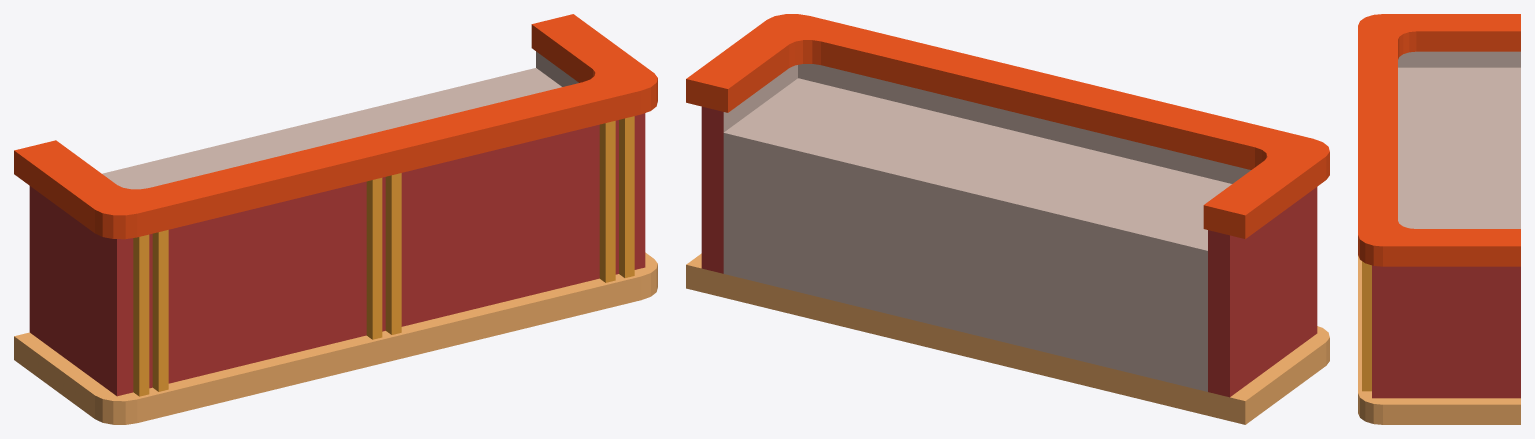
The model's file is TableStand_2lane_geo.fbx.
3 views of the same model, side by side, from view 1: azimuth 30°, elevation 25°; view 2: azimuth 150°, elevation 25°; view 3: azimuth 270°, elevation 25° (orthographic). The views are drawn at different scales.
Visible parts, largest first — view 1: TableStand_2lane_geo; view 2: TableStand_2lane_geo; view 3: TableStand_2lane_geo.
Part boxes in pixels (x1,y1,x2,y2): TableStand_2lane_geo: [14, 14, 657, 424]; TableStand_2lane_geo: [686, 14, 1329, 424]; TableStand_2lane_geo: [1358, 14, 1520, 424].
Bounding box in the file's own units: 2.42 × 0.7143 × 0.8646.
